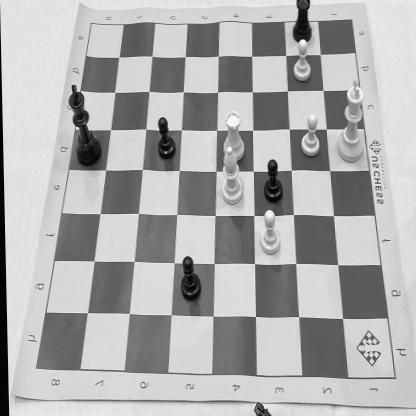black-king: (65, 80, 103, 166)
black-pawn: (177, 252, 201, 303), (260, 157, 284, 204), (155, 113, 176, 161)
black-rook: (290, 0, 316, 45)
white-bishop: (217, 145, 245, 207)
white-king: (332, 76, 368, 166)
white-pawn: (256, 208, 282, 256), (298, 110, 322, 160), (291, 37, 314, 85)
white-rook: (221, 108, 244, 164)
